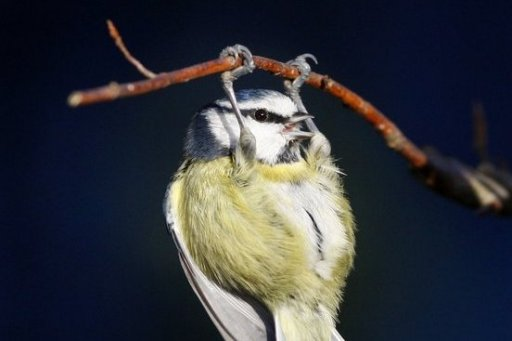bird: (152, 31, 363, 341)
